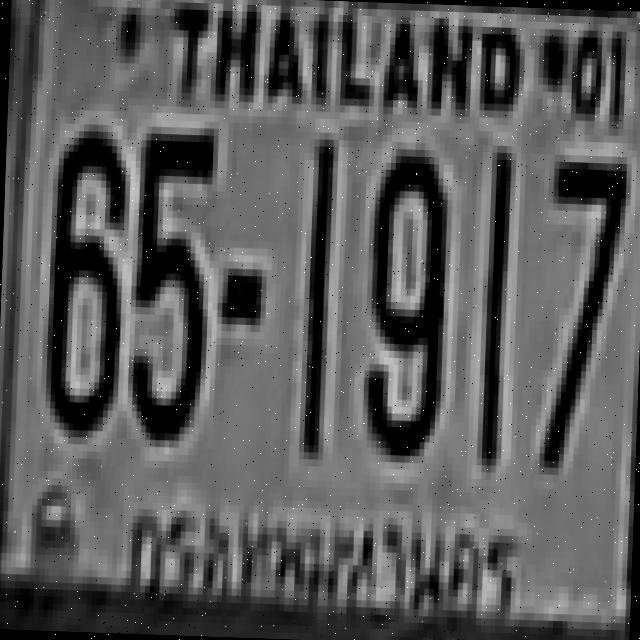1: (302, 132, 336, 411)
5: (128, 126, 216, 434)
6: (39, 122, 128, 431)
7: (539, 154, 627, 462), (542, 154, 626, 400)
9: (359, 144, 447, 453)
Bangkok: (106, 482, 530, 636)
